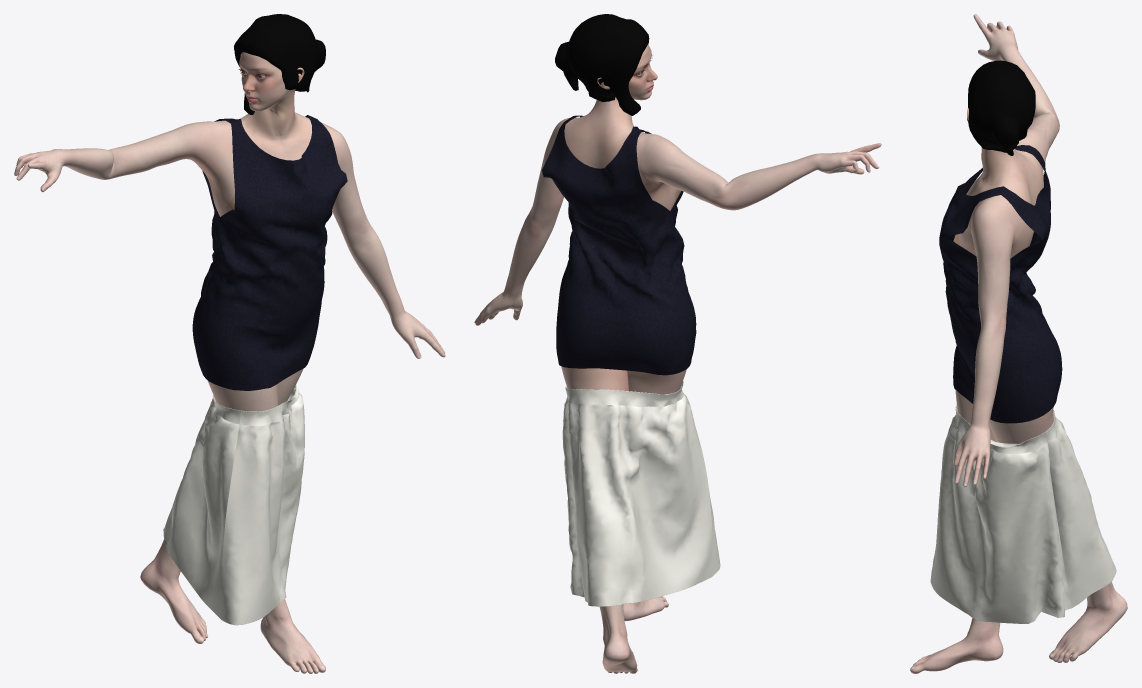
Rendered from Dynamic.obj.
3 views of the same model, side by side, from view 1: azimuth 30°, elevation 25°; view 2: azimuth 150°, elevation 25°; view 3: azimuth 270°, elevation 25° (orthographic). The views are drawn at different scales.
Bounding box in the file's own units: 1226 × 1775 × 569.
